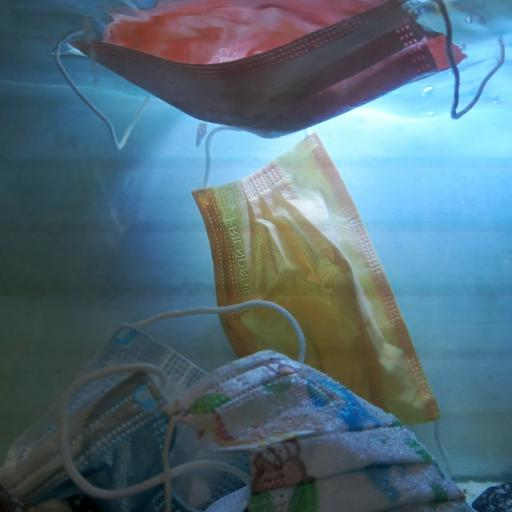mask: (193, 115, 459, 486), (0, 297, 308, 510), (52, 1, 502, 146), (167, 345, 473, 512)
